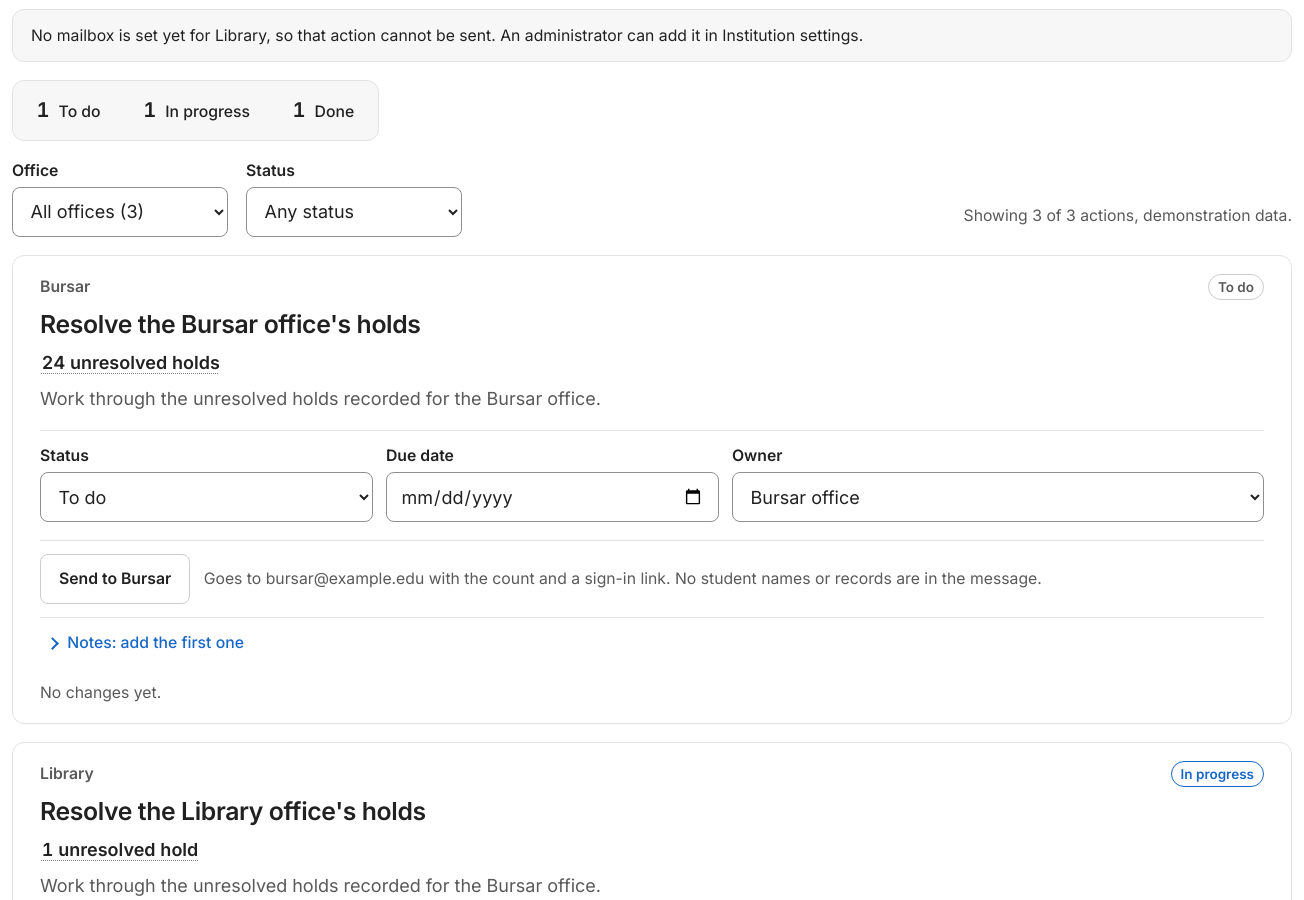
Test case: Staff actions page › saves only what changed, with the version it was opened at
This screenshot has width=1304, height=900.
Expected: the element "Resolve the Bursar office's holds" is shown, [12, 255, 1292, 724]
Expected: the button "Save changes" is not shown
Select "In progress" in the dropdown labelled "Status" below "Resolve the Bursar office's holds" at (206, 497), box [40, 472, 372, 522]
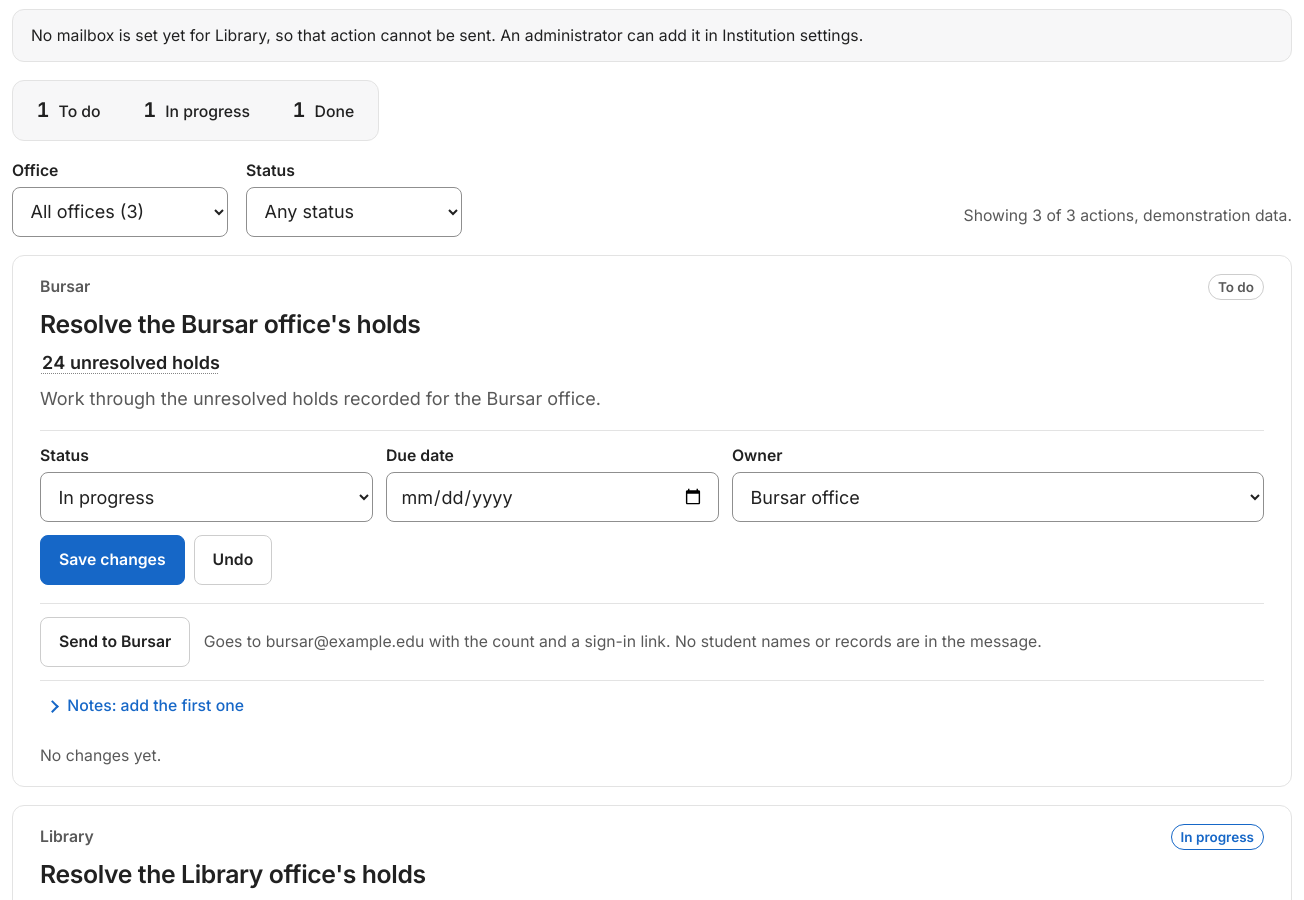
Select "staff@example.edu (you)" in the dropdown labelled "Owner" at (998, 497), box [732, 472, 1264, 522]
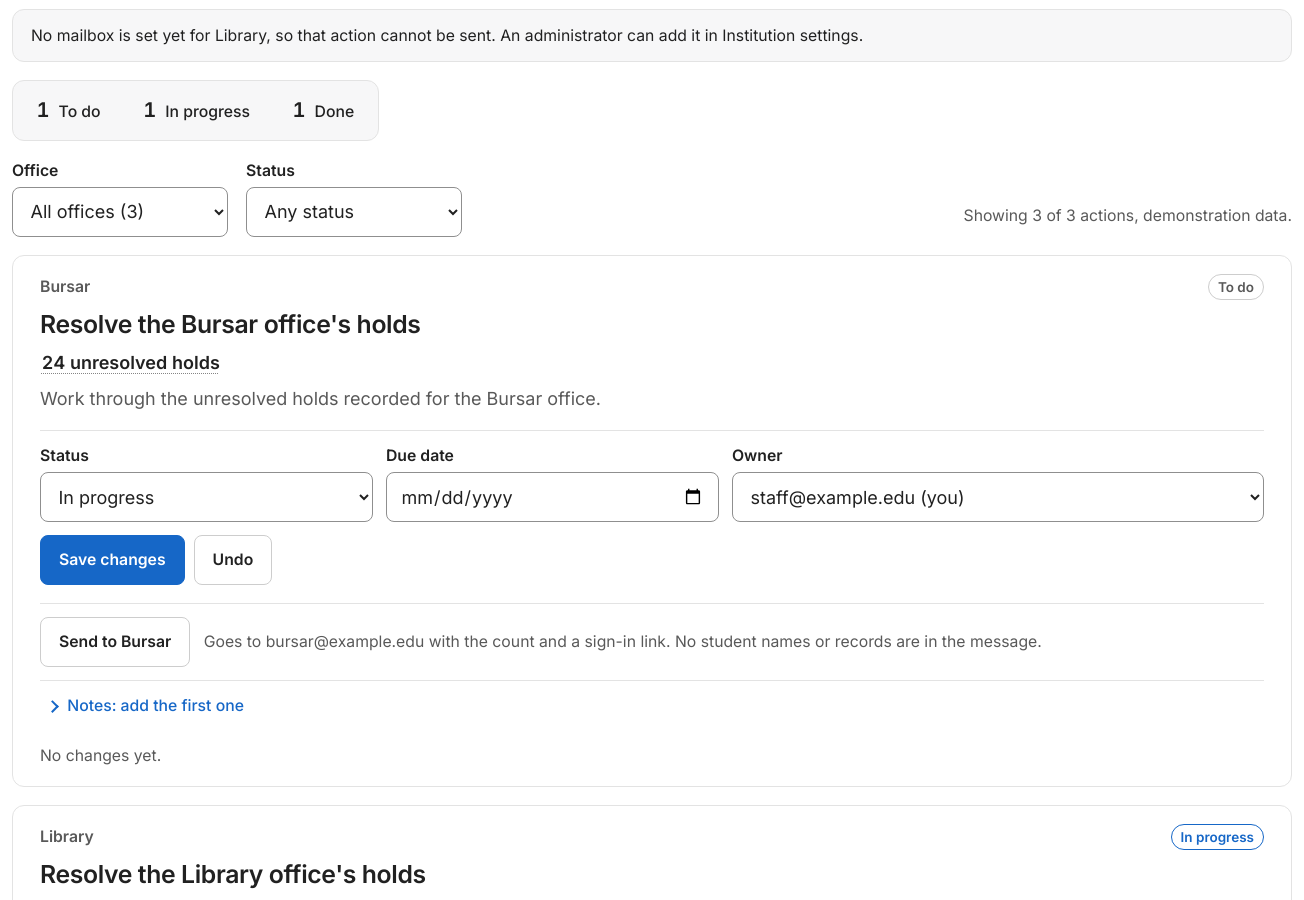
Type "2026-10-20" into the date field labelled "Due date" at (552, 497), box [386, 472, 718, 522]
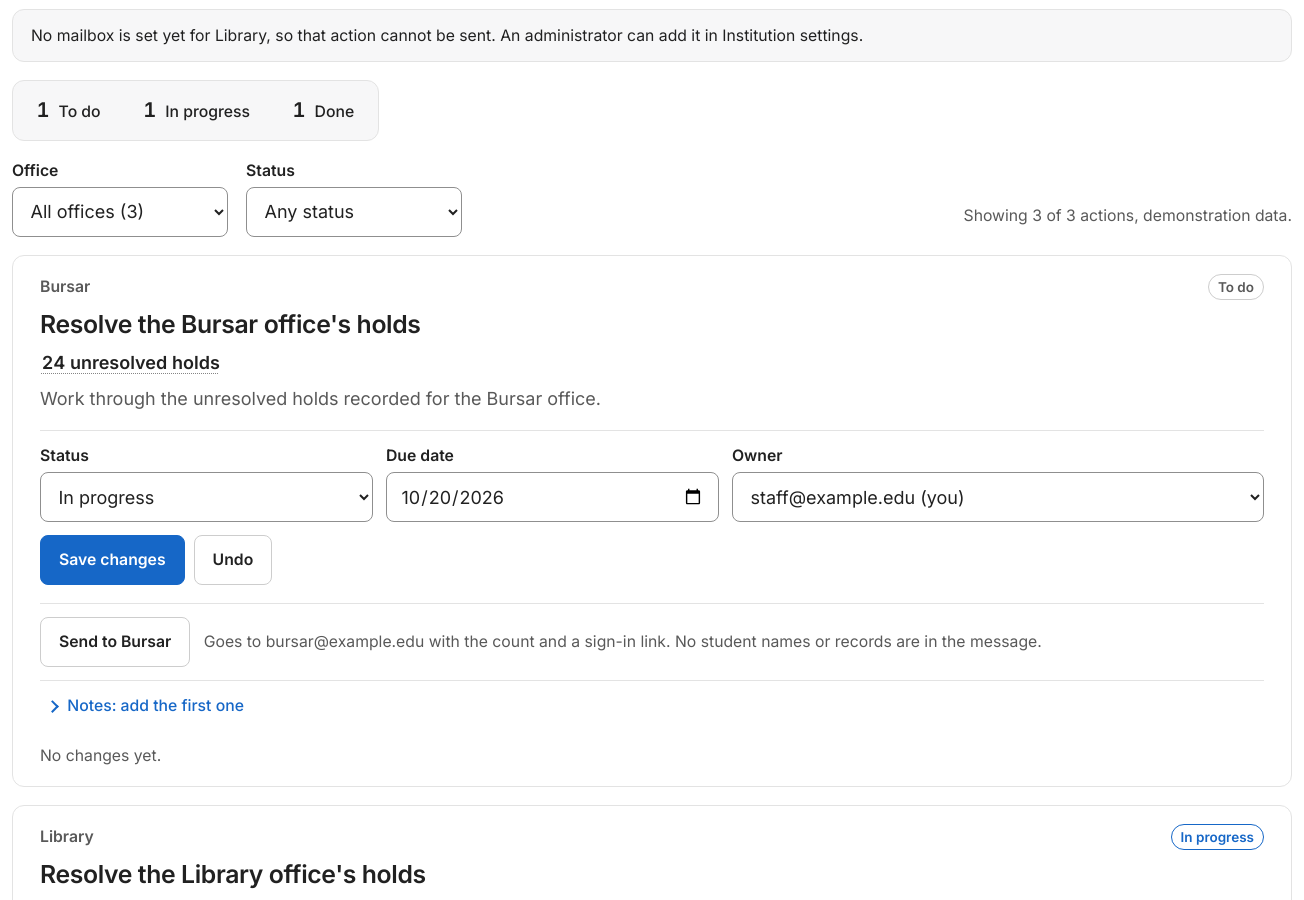
Click the button "Save changes" at (112, 560), box [40, 536, 185, 585]
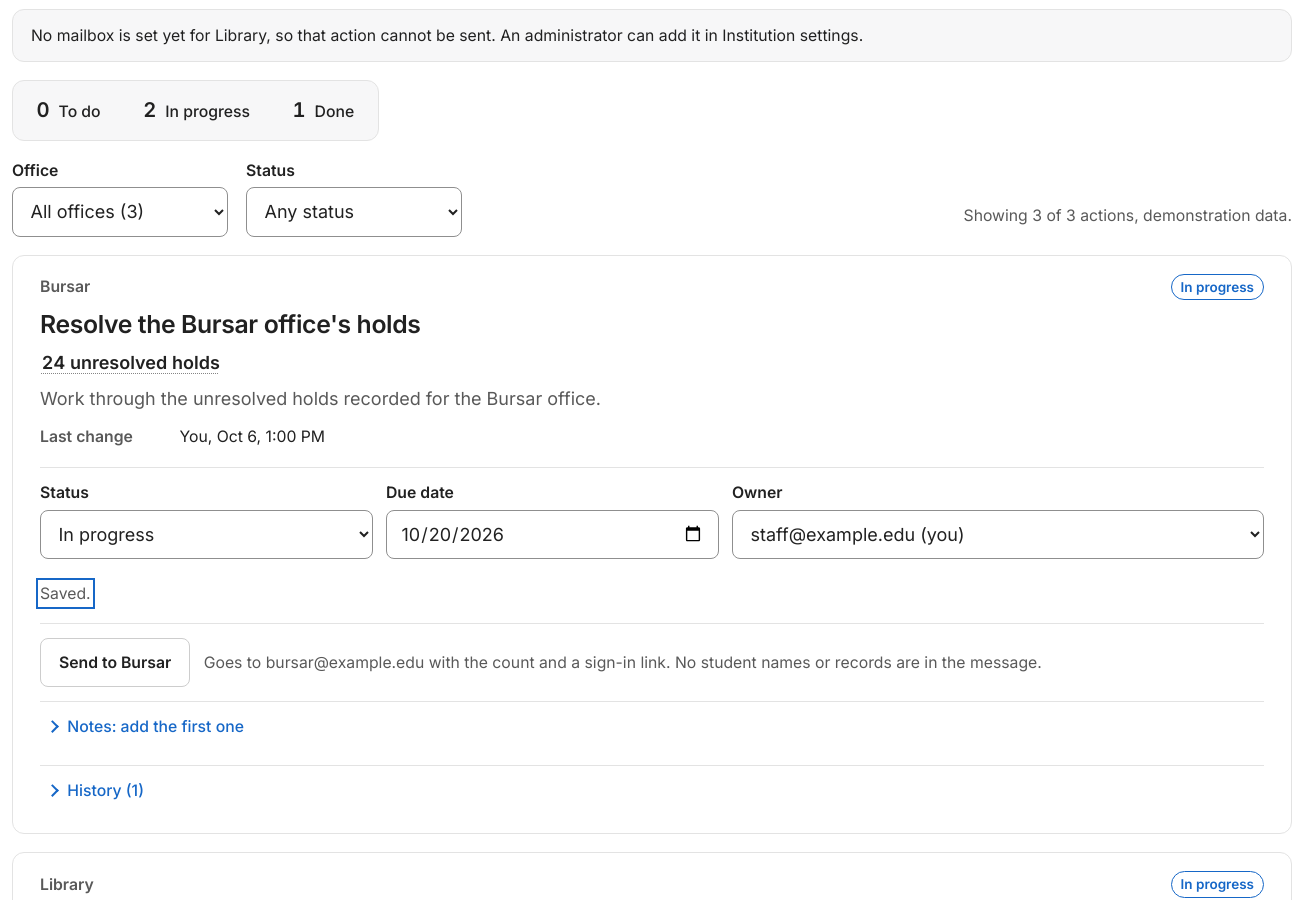
Result: the text "Saved." is shown at [40, 582, 91, 605]
Result: the 2nd text "In progress" is shown at [1171, 274, 1264, 300]
Result: the heading "History (1)" is shown at [67, 781, 144, 800]
